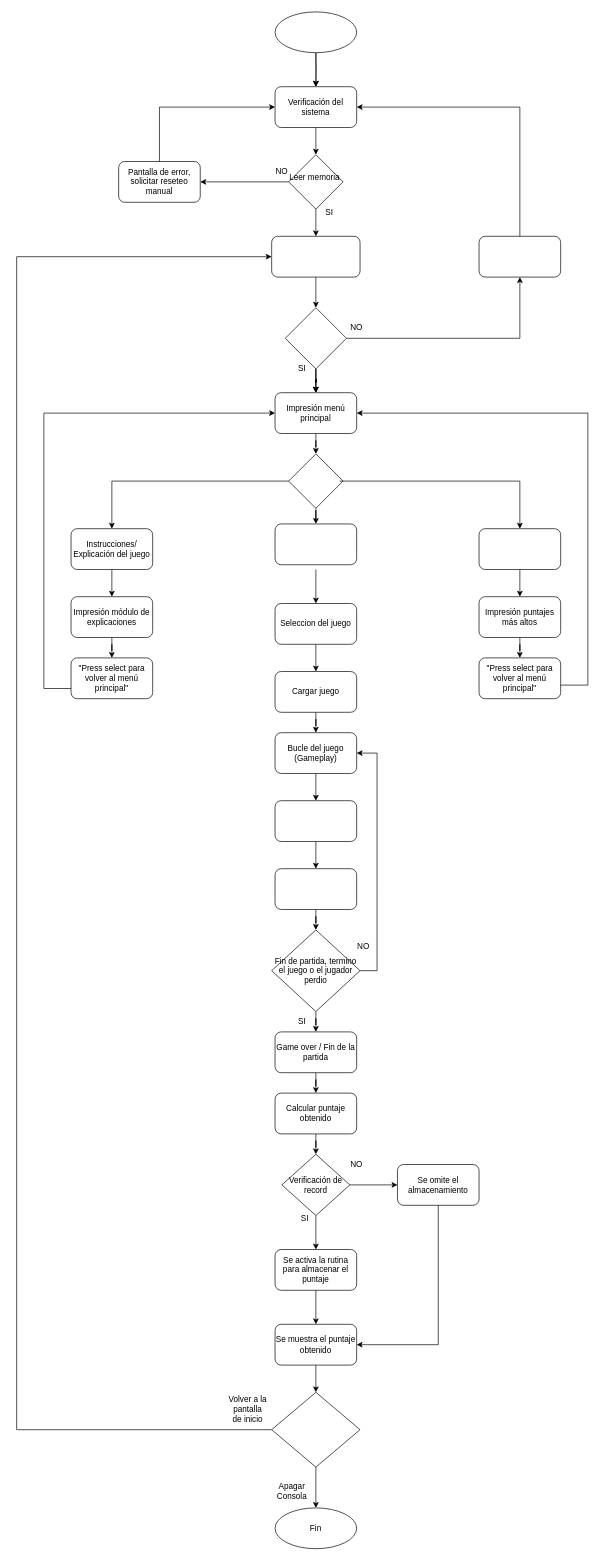
Some shapes in this 605 by 1561 pixel diagram are drawn without their labels. Here are the shapes that lost their labels. From the top down, the box of each, then its label:
(274, 11, 357, 53): Inicio
(271, 236, 360, 277): Encender pantalla (Mensaje de apertura, "Pulse cualquier botón")
(478, 236, 561, 277): Indicar que no hay ninguna entrada conectada
(285, 307, 346, 369): Lectura de contoles
(288, 453, 343, 508): Selector menú
(274, 523, 357, 565): Empezar el juego
(478, 528, 561, 570): High scores (puntajes más altos)
(274, 800, 357, 842): Interacción del usuario con los controles del juego
(274, 868, 357, 910): Procesamiento de los controles del juego
(271, 1392, 360, 1467): Volver a la pantalla de inicio o apagar la consola
